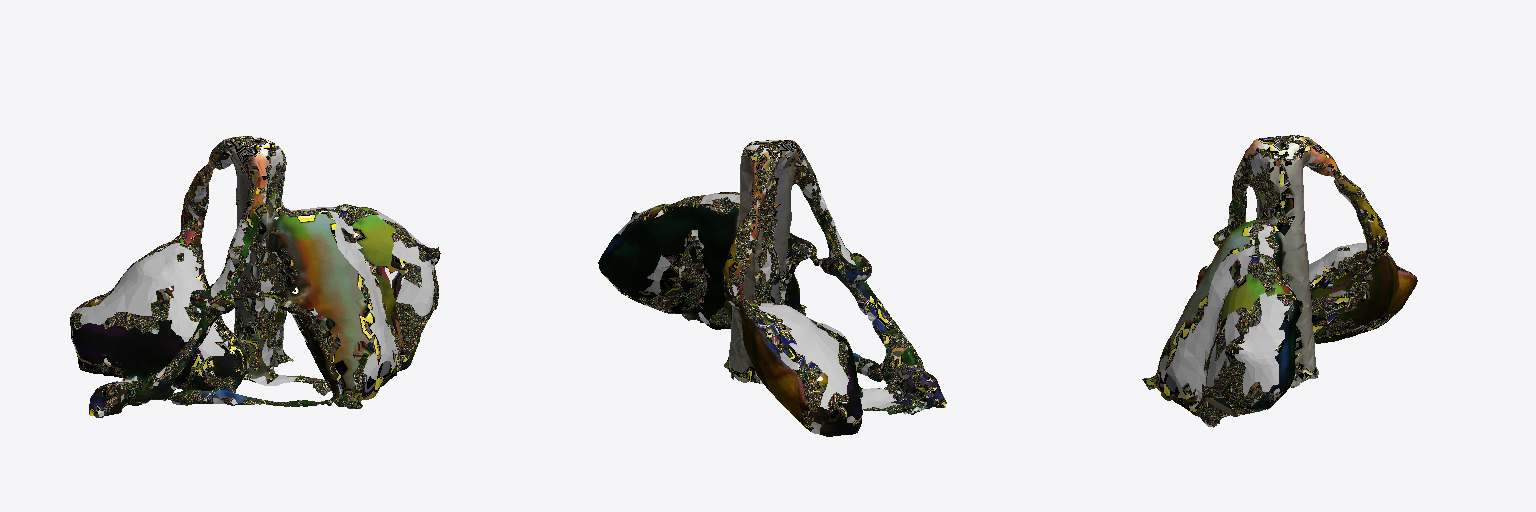
3 views of the same model, side by side, from view 1: azimuth 30°, elevation 25°; view 2: azimuth 150°, elevation 25°; view 3: azimuth 270°, elevation 25° (orthographic).
Visible parts, largest first — view 1: twinning; view 2: twinning; view 3: twinning.
Boxes of the visible parts, <box> form: twinning: <box>70,136,440,417</box>; twinning: <box>598,140,946,436</box>; twinning: <box>1142,135,1417,427</box>.
Bounding box in the file's own units: 2.51 × 1.6 × 1.74.
5 materials, 2 textured.